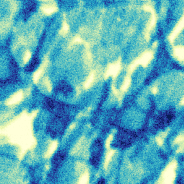hole_filled: (36, 4, 165, 111)
